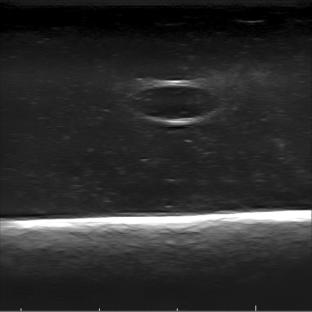vessel: (128, 80, 221, 125)
